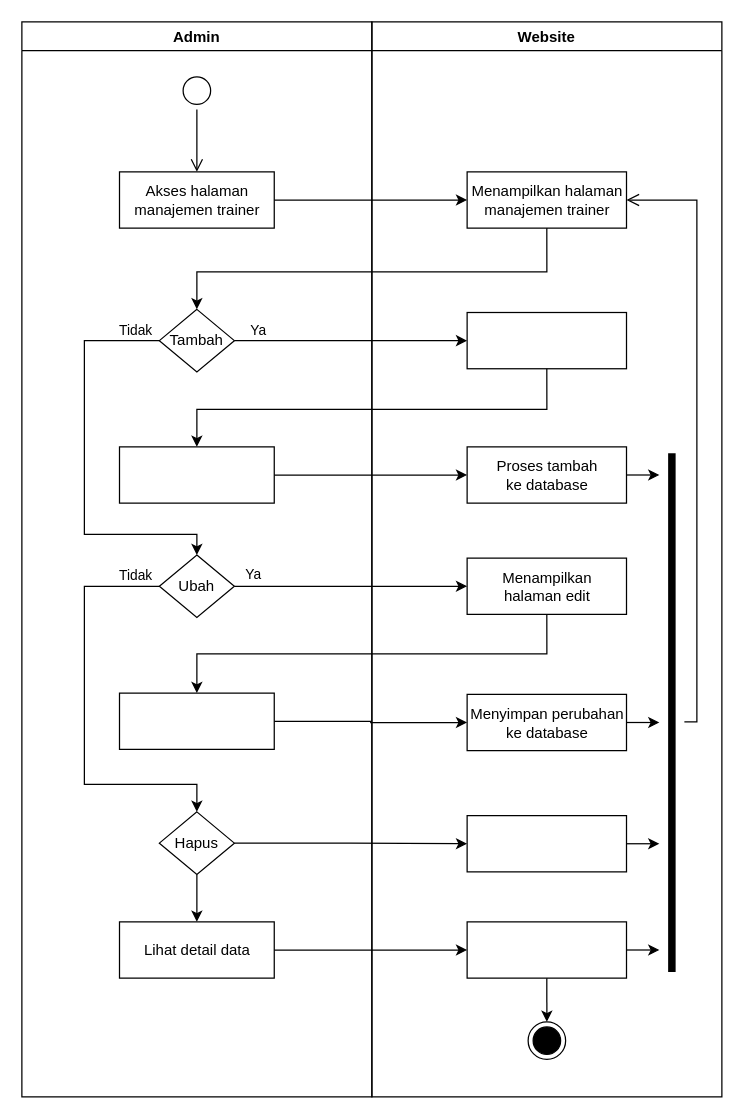
Image size: 744x1119. Some labels were removed from this diagram. The box of each missing label's shape, as (x1, y1, x2, y2) in pixels:
Hapus data dari database: (466, 814, 626, 872)
Menampilkan detail data: (466, 921, 626, 978)
Menampilkan halaman tambah: (466, 311, 626, 369)
Tambah data: (118, 446, 274, 503)
Ubah data: (118, 692, 274, 749)
